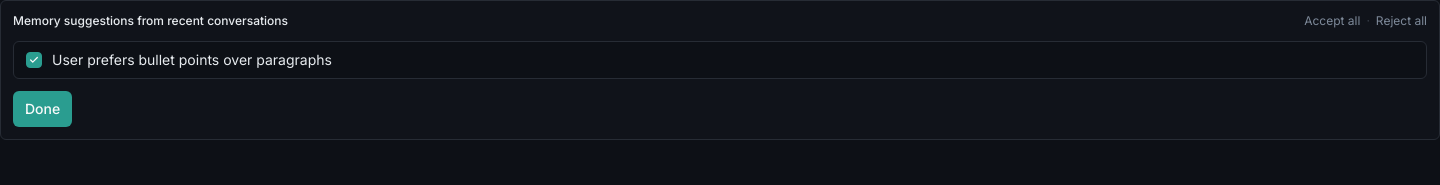
Scenario: ProposalReviewPanel › submit behavior › shows error message on network failure during submit
What coordinates should you click on to do the following:
click the button "Done"
I would click on:
 (43, 109)
Its box is [13,91,72,127].
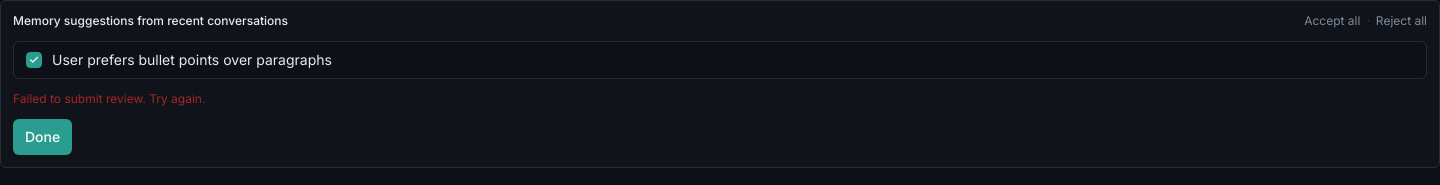
Now the text "Failed to submit review. Try again." is shown, box [13,91,205,106]
